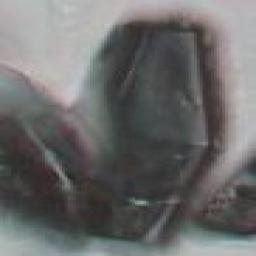crystals: (55, 22, 239, 247)
